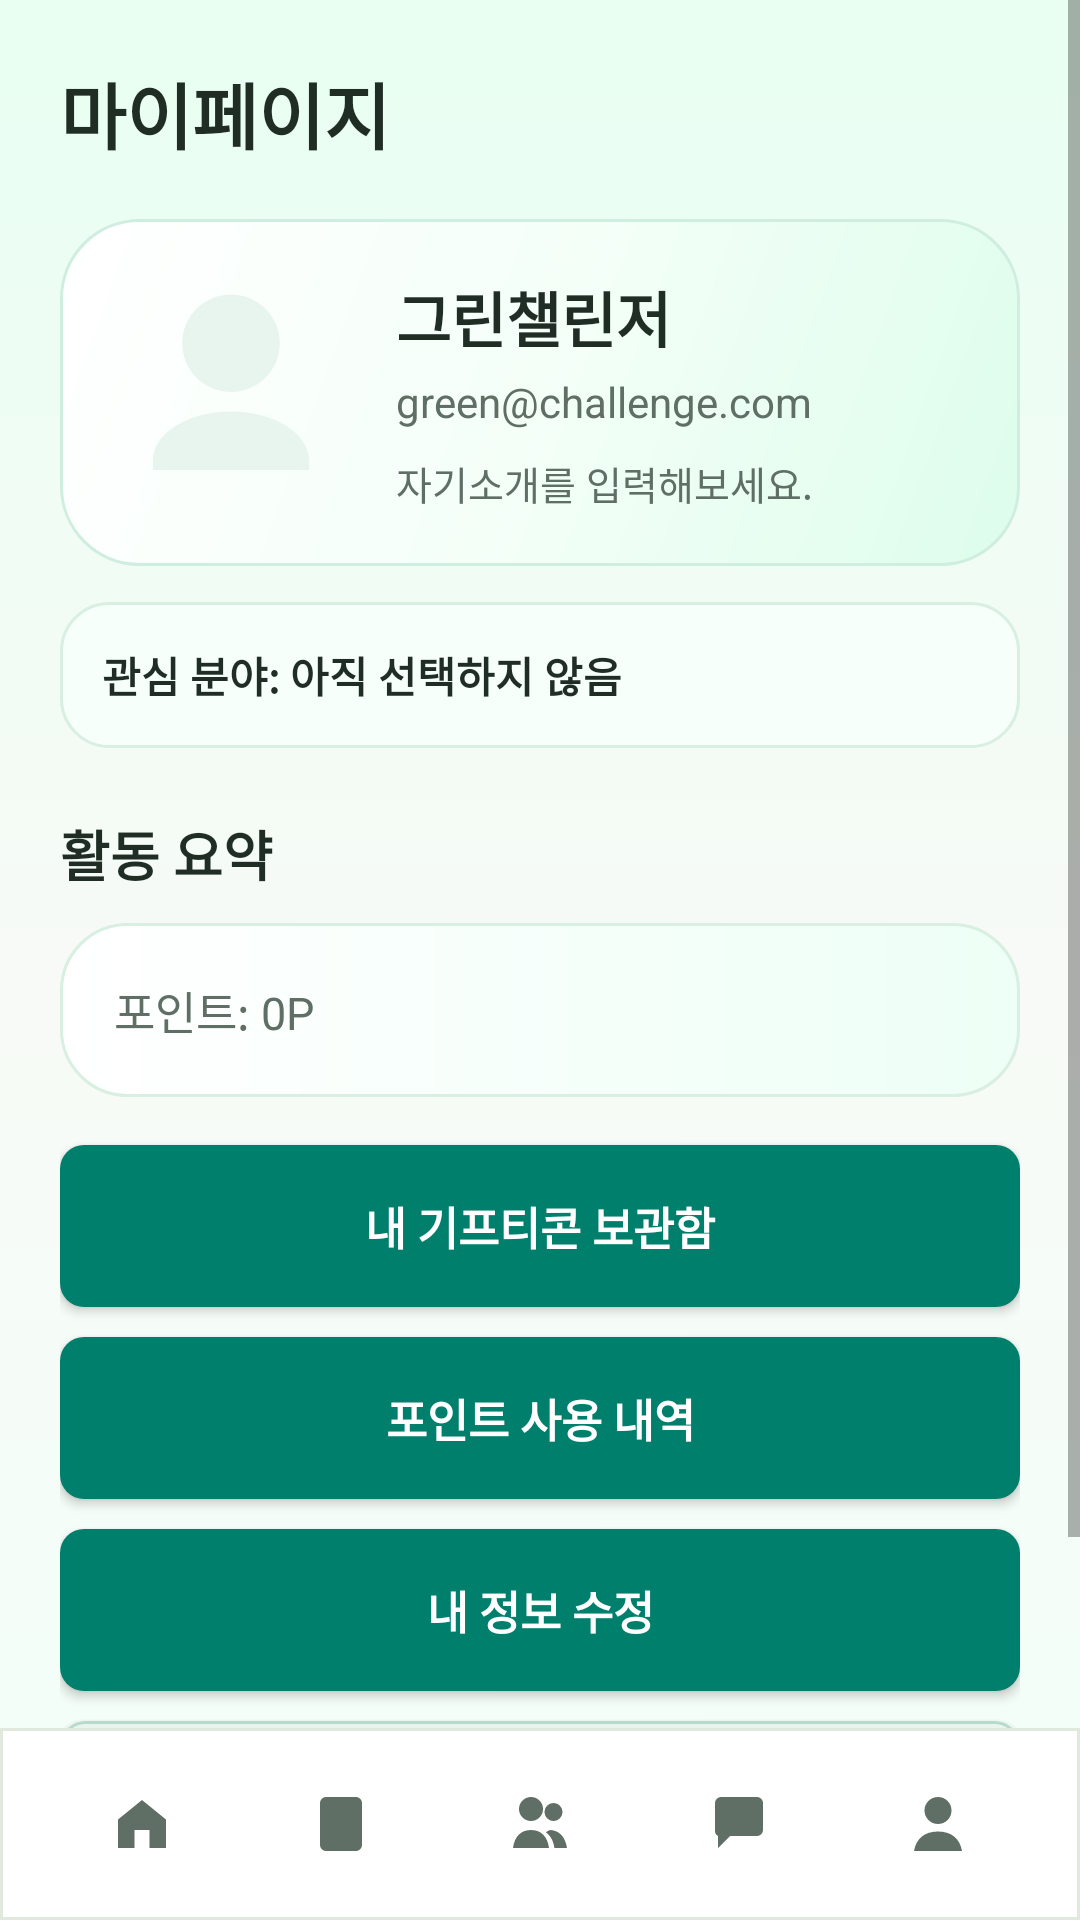

Point at icon controls on the screen. Image size 1080x1920, points as (x=x, y=y).
home: (x=142, y=1824)
마이페이지: (x=938, y=1824)
친구: (x=540, y=1822)
커뮤니티: (x=739, y=1822)
